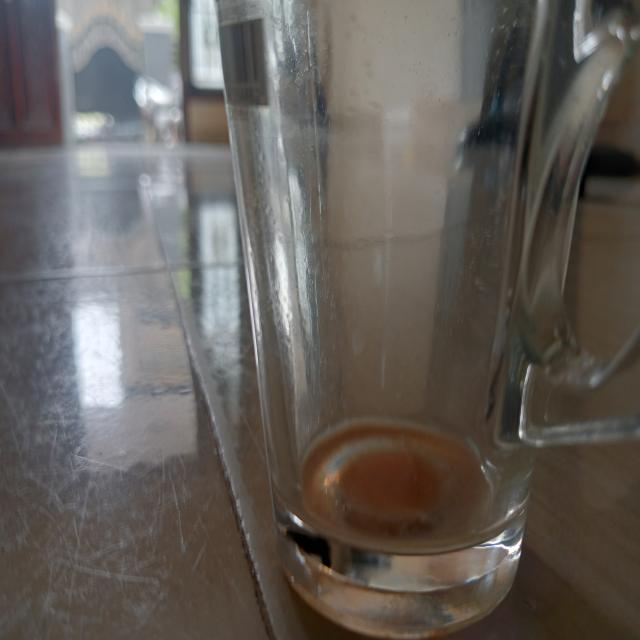glass-VX4N: (210, 0, 640, 640)
